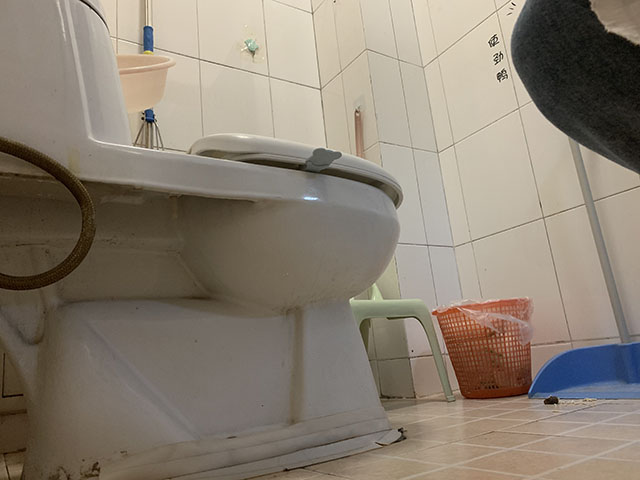closestool: (1, 1, 406, 480)
stool: (350, 281, 455, 404)
trashcan: (430, 296, 536, 401)
